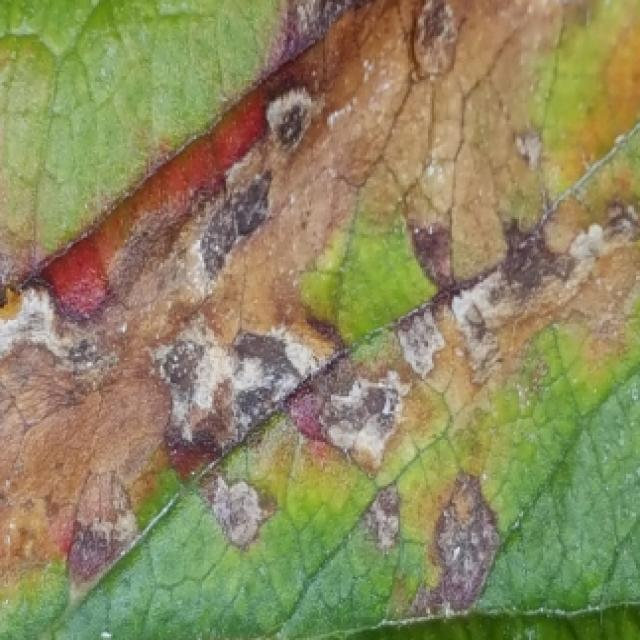Angular Leafspot: (0, 0, 640, 640)
